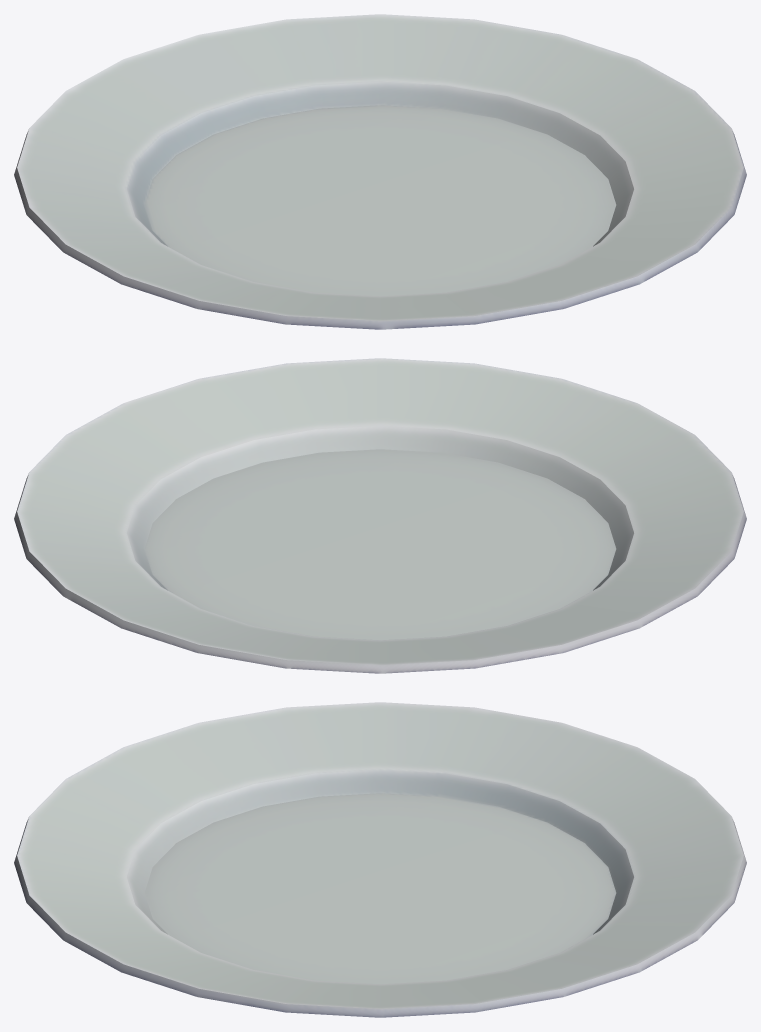
File: Plate.fbx
The picture shows the model from 3 angles, top to bottom: view 1: azimuth 30°, elevation 25°; view 2: azimuth 150°, elevation 25°; view 3: azimuth 270°, elevation 25°; orthographic projection.
Visible parts, largest first — view 1: Plate; view 2: Plate; view 3: Plate.
Part boxes in pixels (x1,y1,x2,y2): Plate: (14,14,746,329); Plate: (14,358,746,673); Plate: (14,702,746,1017).
Bounding box in the file's own units: 150 × 10.94 × 150.
1 material, 1 textured.
